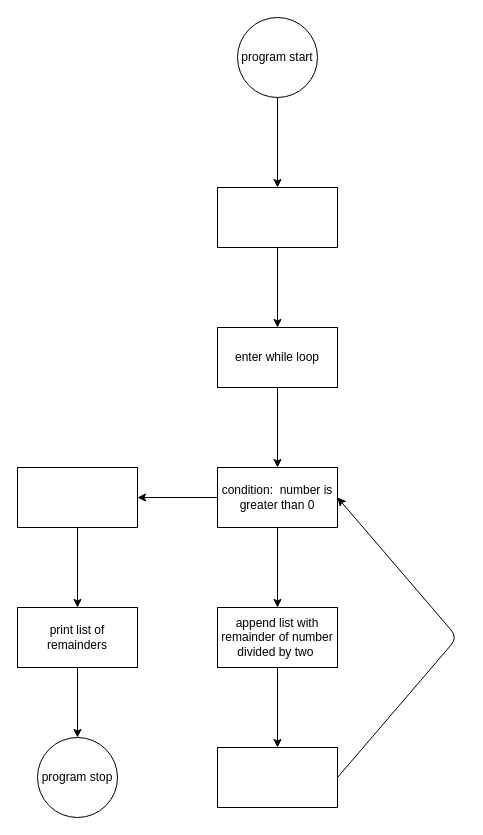
Some shapes in this 483 by 835 pixel diagram are drawn without their labels. The box of each missing label's shape, as (x1, y1, x2, y2) in pixels:
divide the integer by two via integer division: (216, 746, 338, 808)
get number from user by prompt: (216, 186, 338, 248)
if condition is false, exit while loop: (16, 466, 138, 528)
